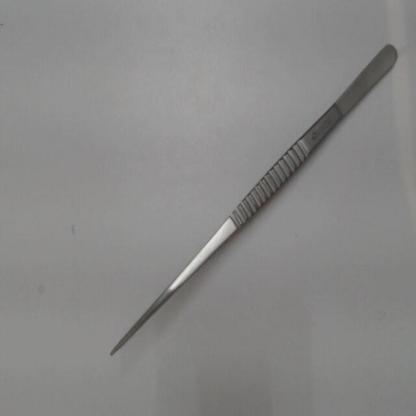DeBakey Dissector: (96, 19, 408, 390)
